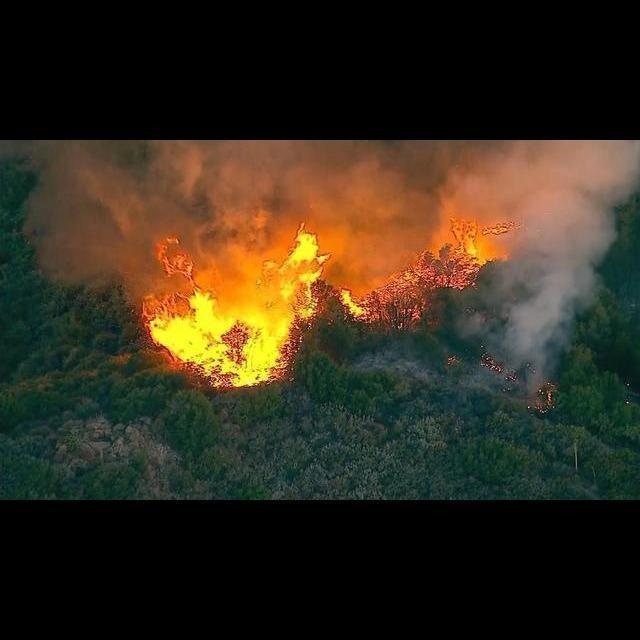Fire: (140, 214, 489, 390)
Smoke: (20, 140, 640, 220), (492, 223, 633, 393), (21, 222, 153, 305)
